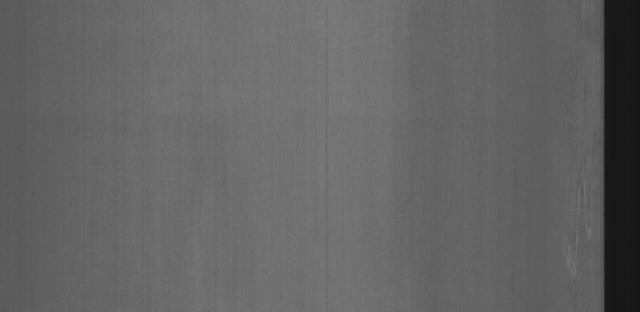silk_spot: (554, 169, 600, 284)
